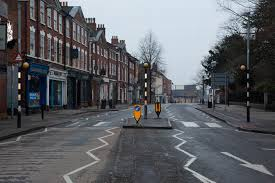strada: (166, 100, 236, 183)
striscie pedonali: (176, 120, 228, 129)
